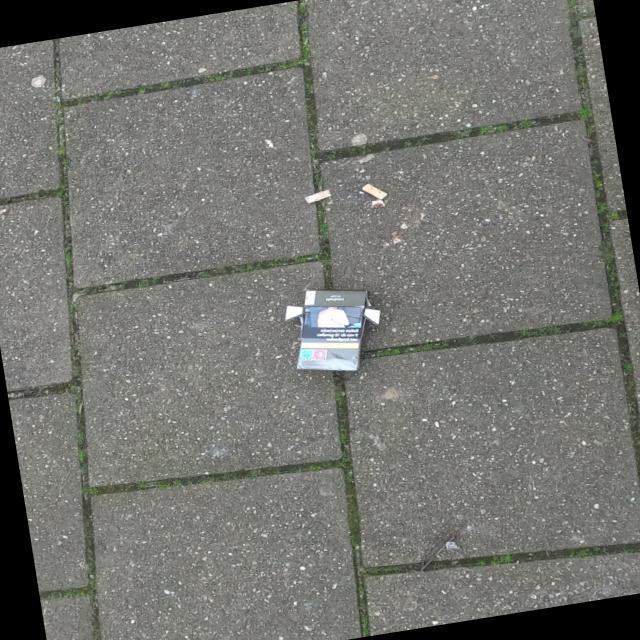Paper: (283, 288, 383, 374)
